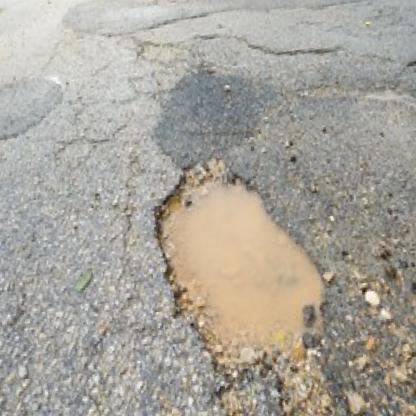pothole: (141, 143, 355, 416)
